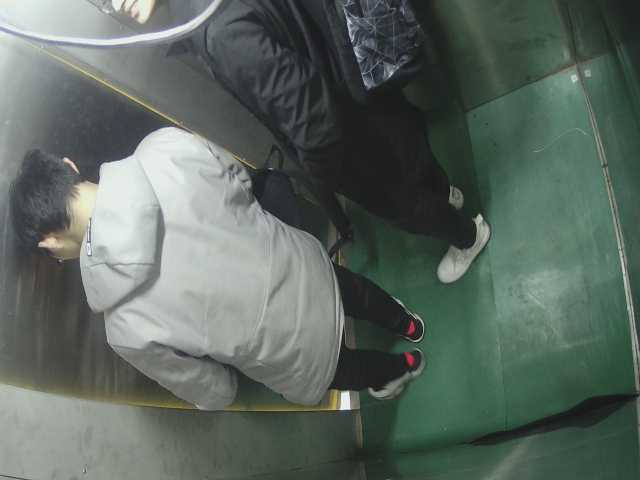bag: (339, 8, 438, 116)
person: (7, 129, 454, 413)
